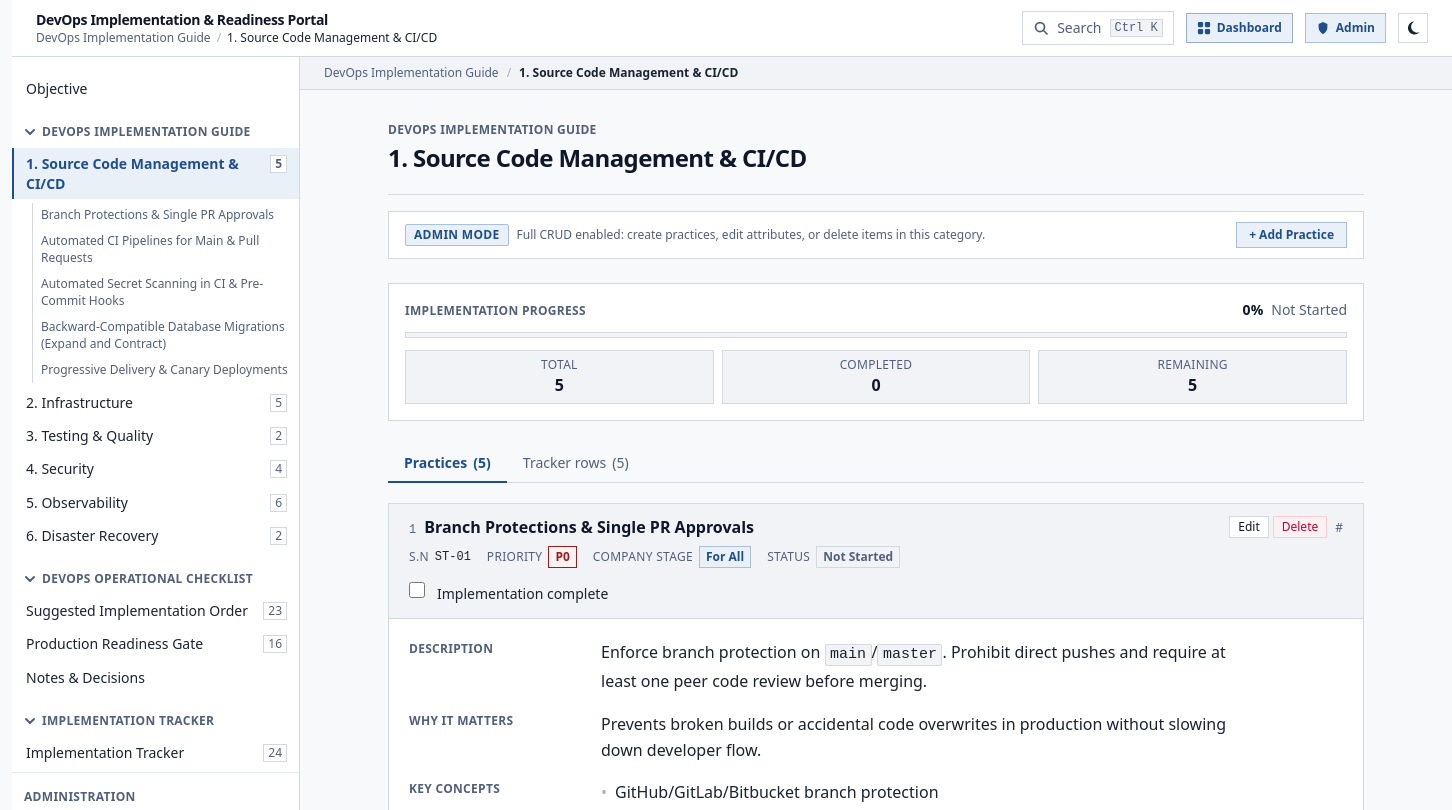
category tabs › matches rows by the declared mapping, not by category name
The width and height of the screenshot is (1452, 810).
Click the tab "Tracker rows(5)".
click(576, 464)  # box top-left (507, 445), bottom-right (645, 483)
(page scrolled)
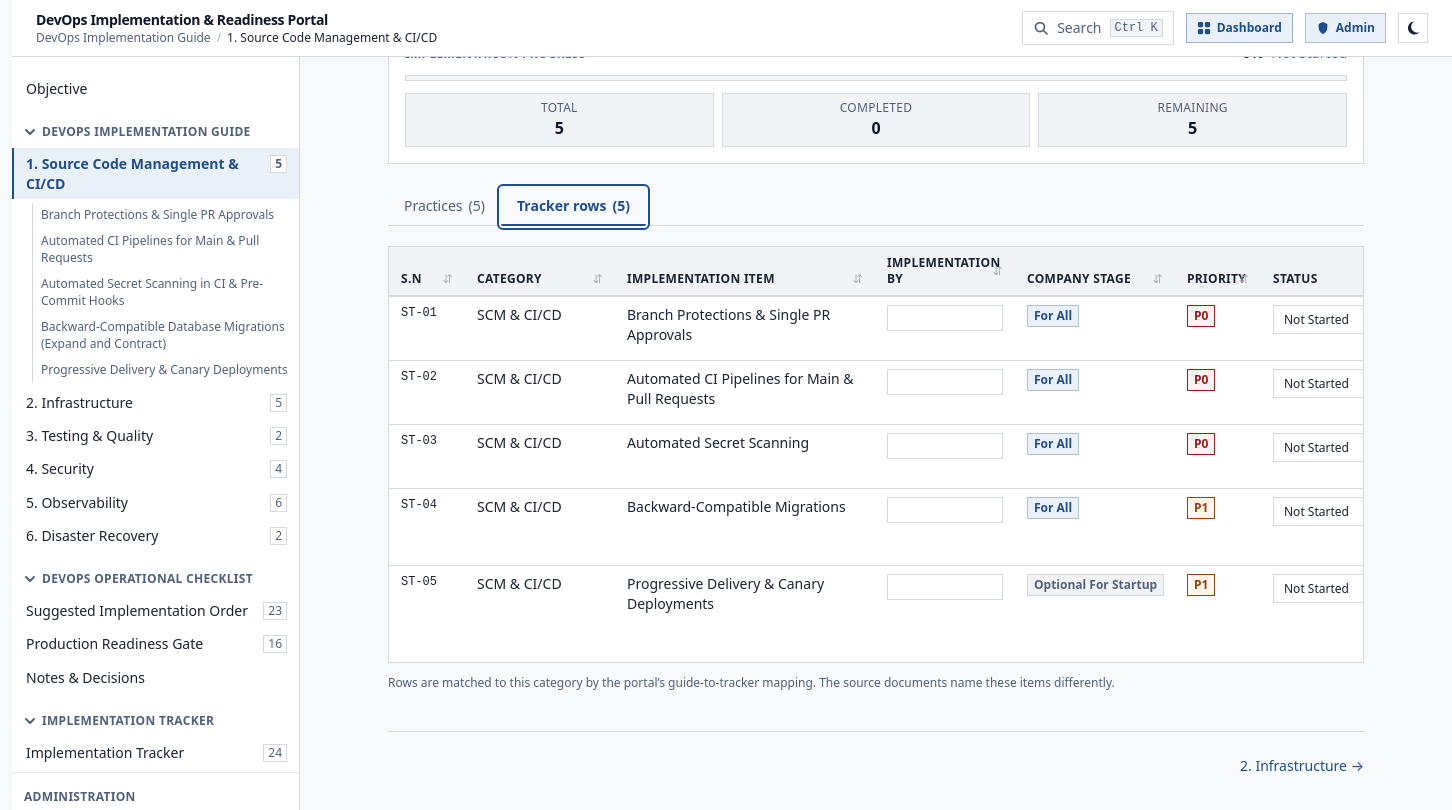
Expected: the table shows "SCM & CI/CD", top-left (477, 305), bottom-right (562, 324)
